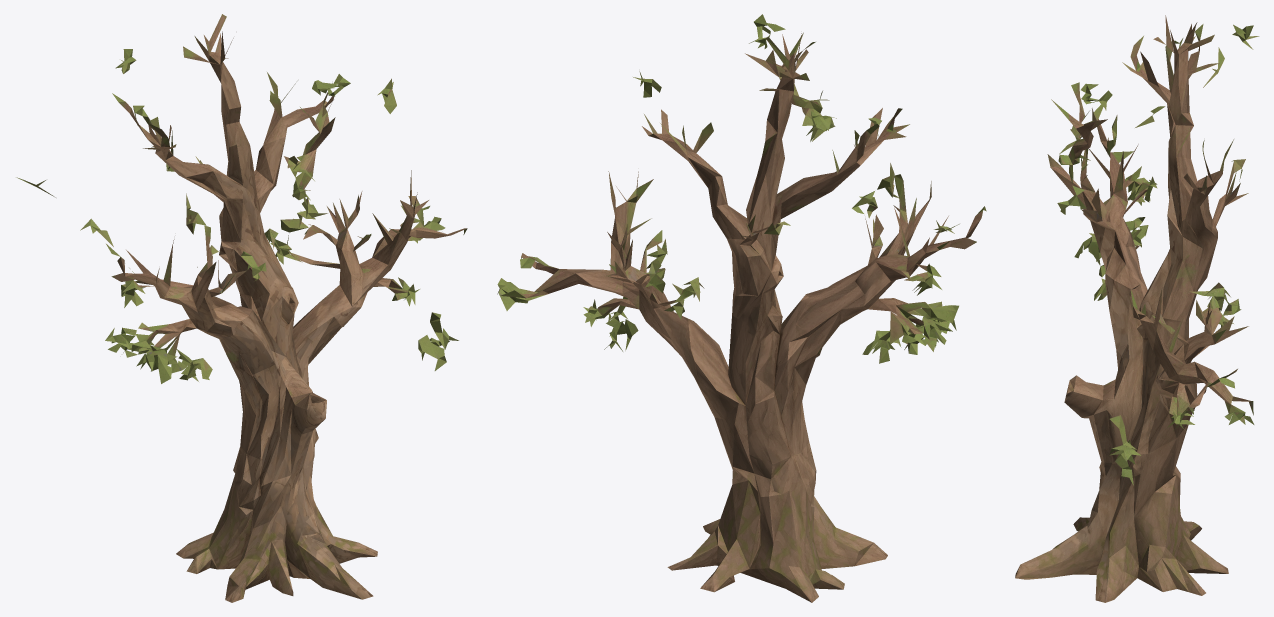
The picture shows the model from 3 angles, left to right: view 1: azimuth 30°, elevation 25°; view 2: azimuth 150°, elevation 25°; view 3: azimuth 270°, elevation 25°; orthographic projection. The views are drawn at different scales.
Visible parts, largest first — view 1: Mesh_0; view 2: Mesh_0; view 3: Mesh_0.
Part boxes in pixels (box(x1,y1,x2,y2)): Mesh_0: box(16, 14, 467, 602); Mesh_0: box(497, 14, 986, 602); Mesh_0: box(1015, 15, 1259, 602).
Size of the model in its own units: 1.54 by 1.78 by 0.7455.
1 material, 1 textured.
